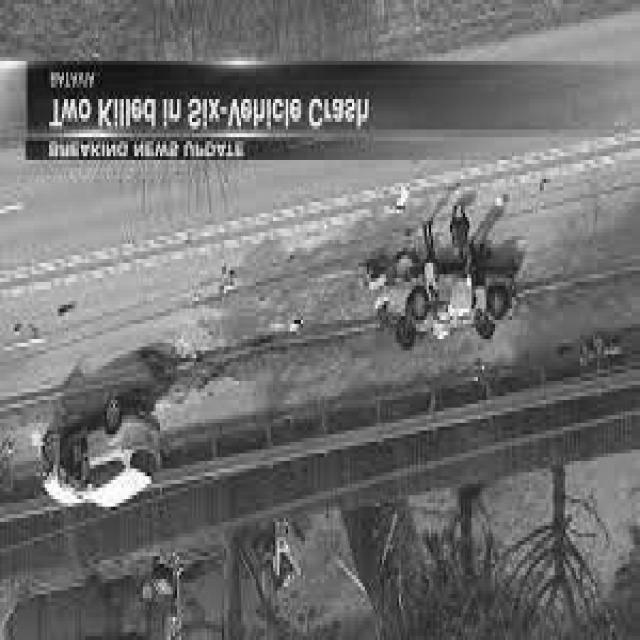severe: (367, 248, 520, 366)
